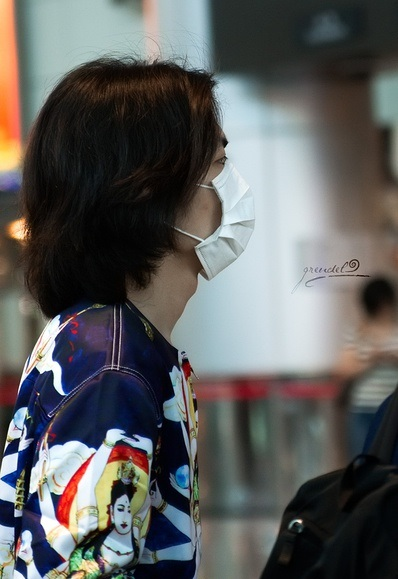face_mask: (163, 98, 252, 253)
